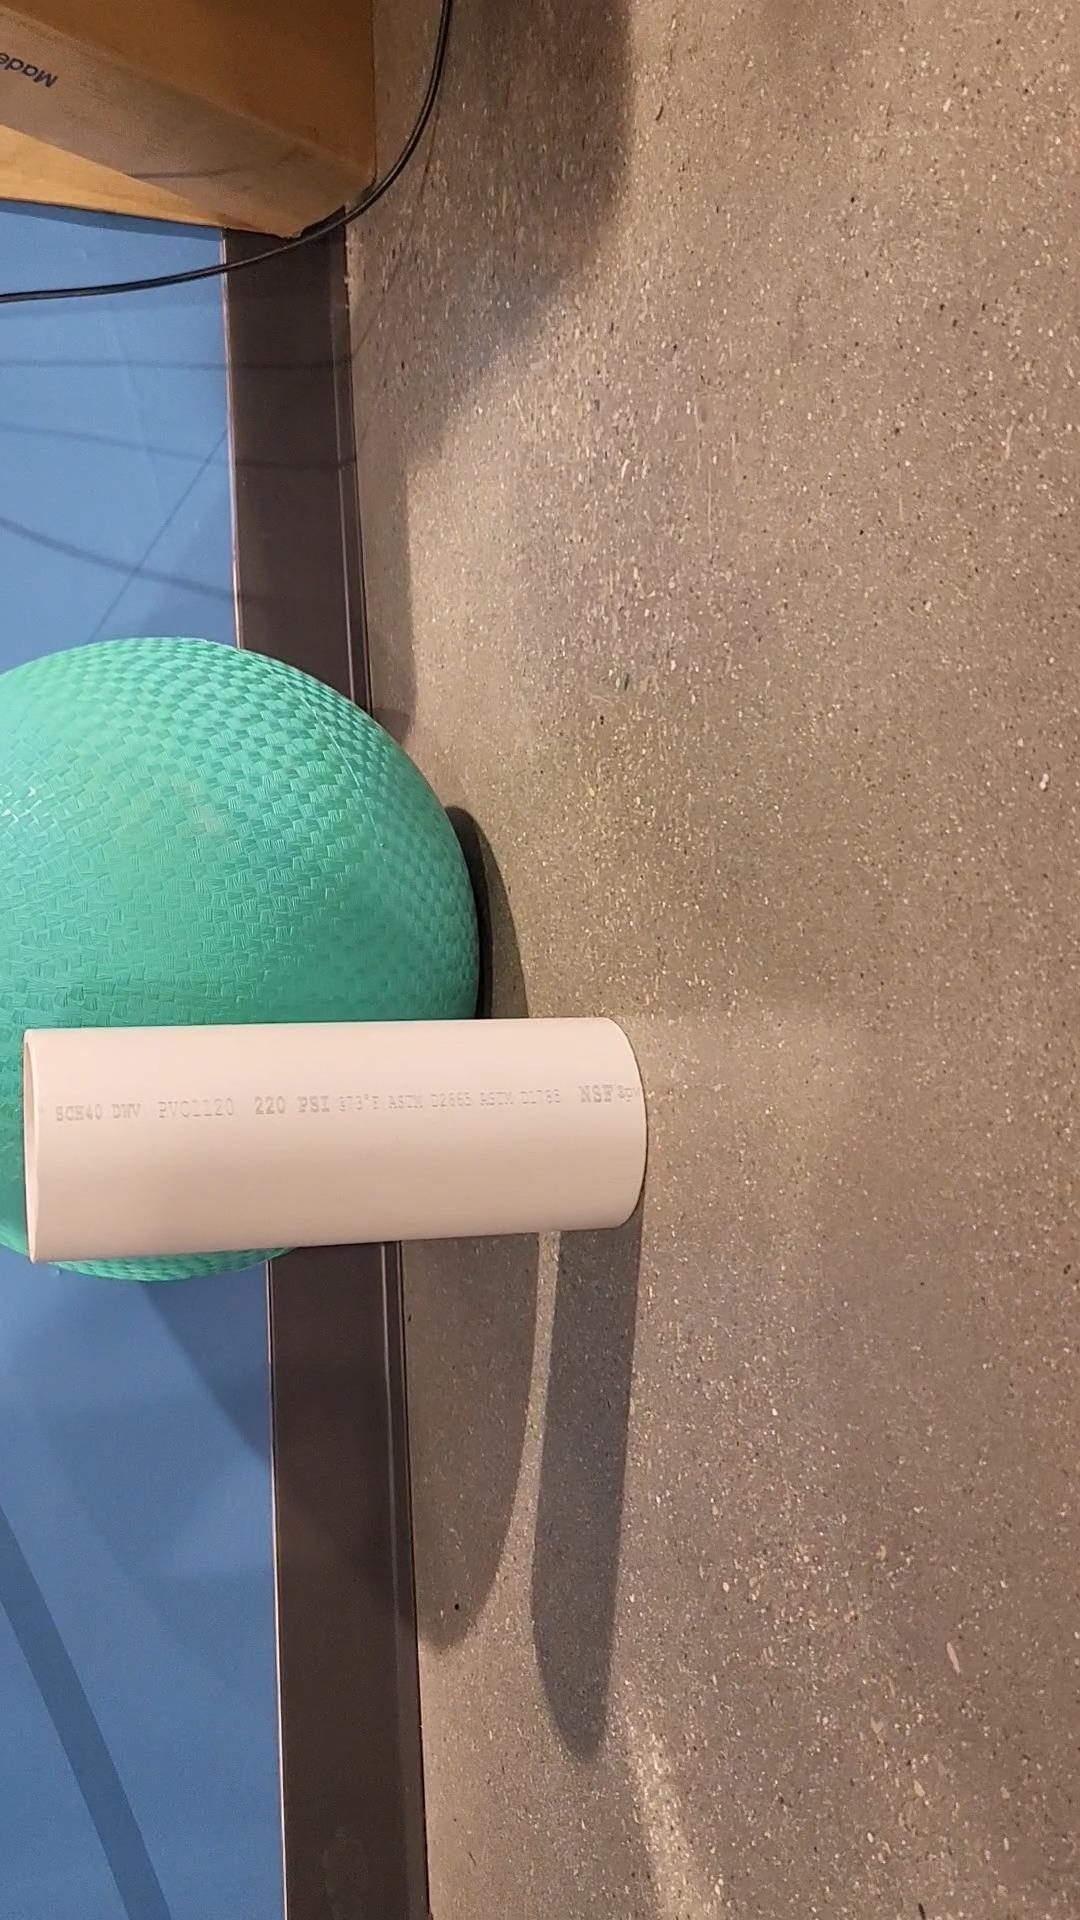algae: (0, 638, 480, 1283)
coral: (22, 1026, 641, 1266)
